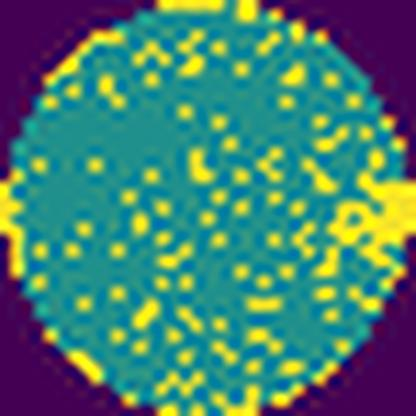Edge-Loc: (325, 172, 415, 301), (0, 167, 31, 276), (150, 0, 225, 20), (236, 0, 266, 24)
